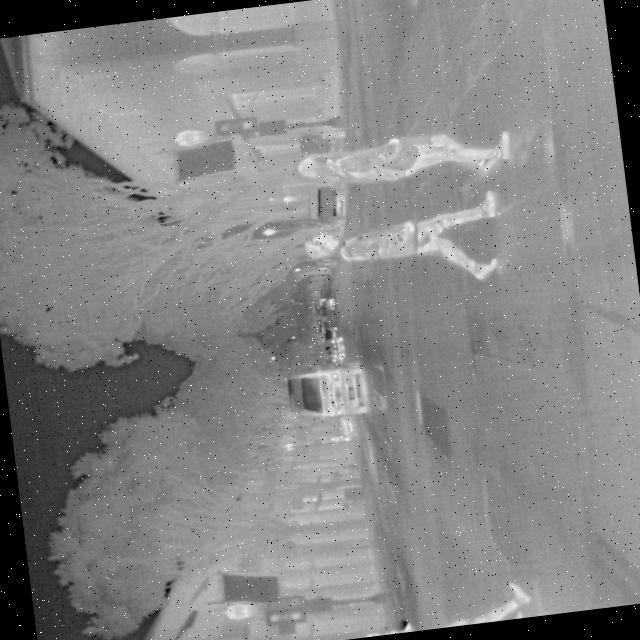Pedestrian: (295, 186, 508, 304), (291, 119, 515, 195), (342, 572, 536, 639)
Vehicle: (282, 362, 372, 424)
